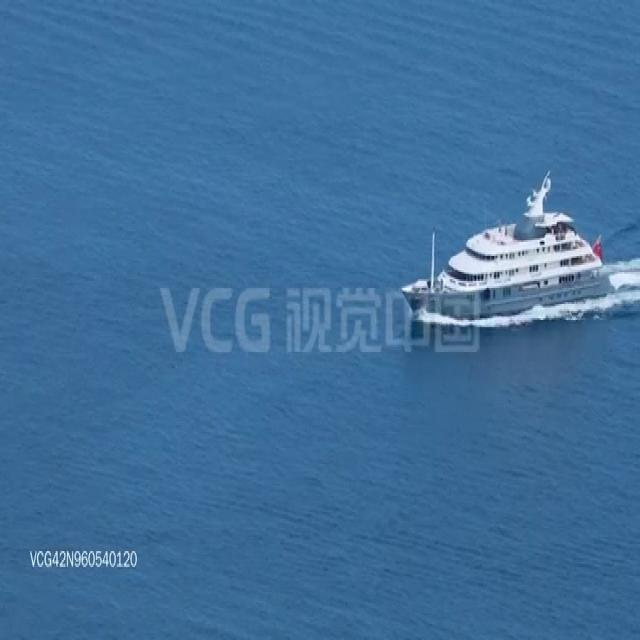passenger ship: (396, 178, 616, 326)
